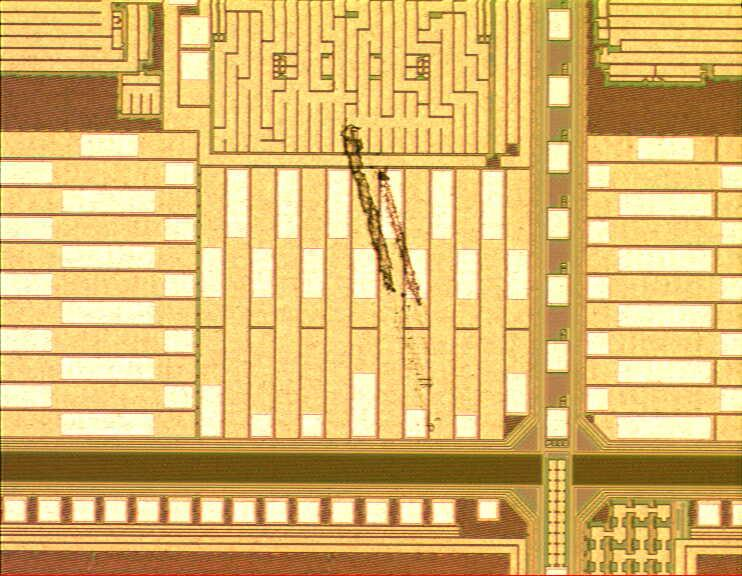SCRATCH: (335, 120, 444, 437)
